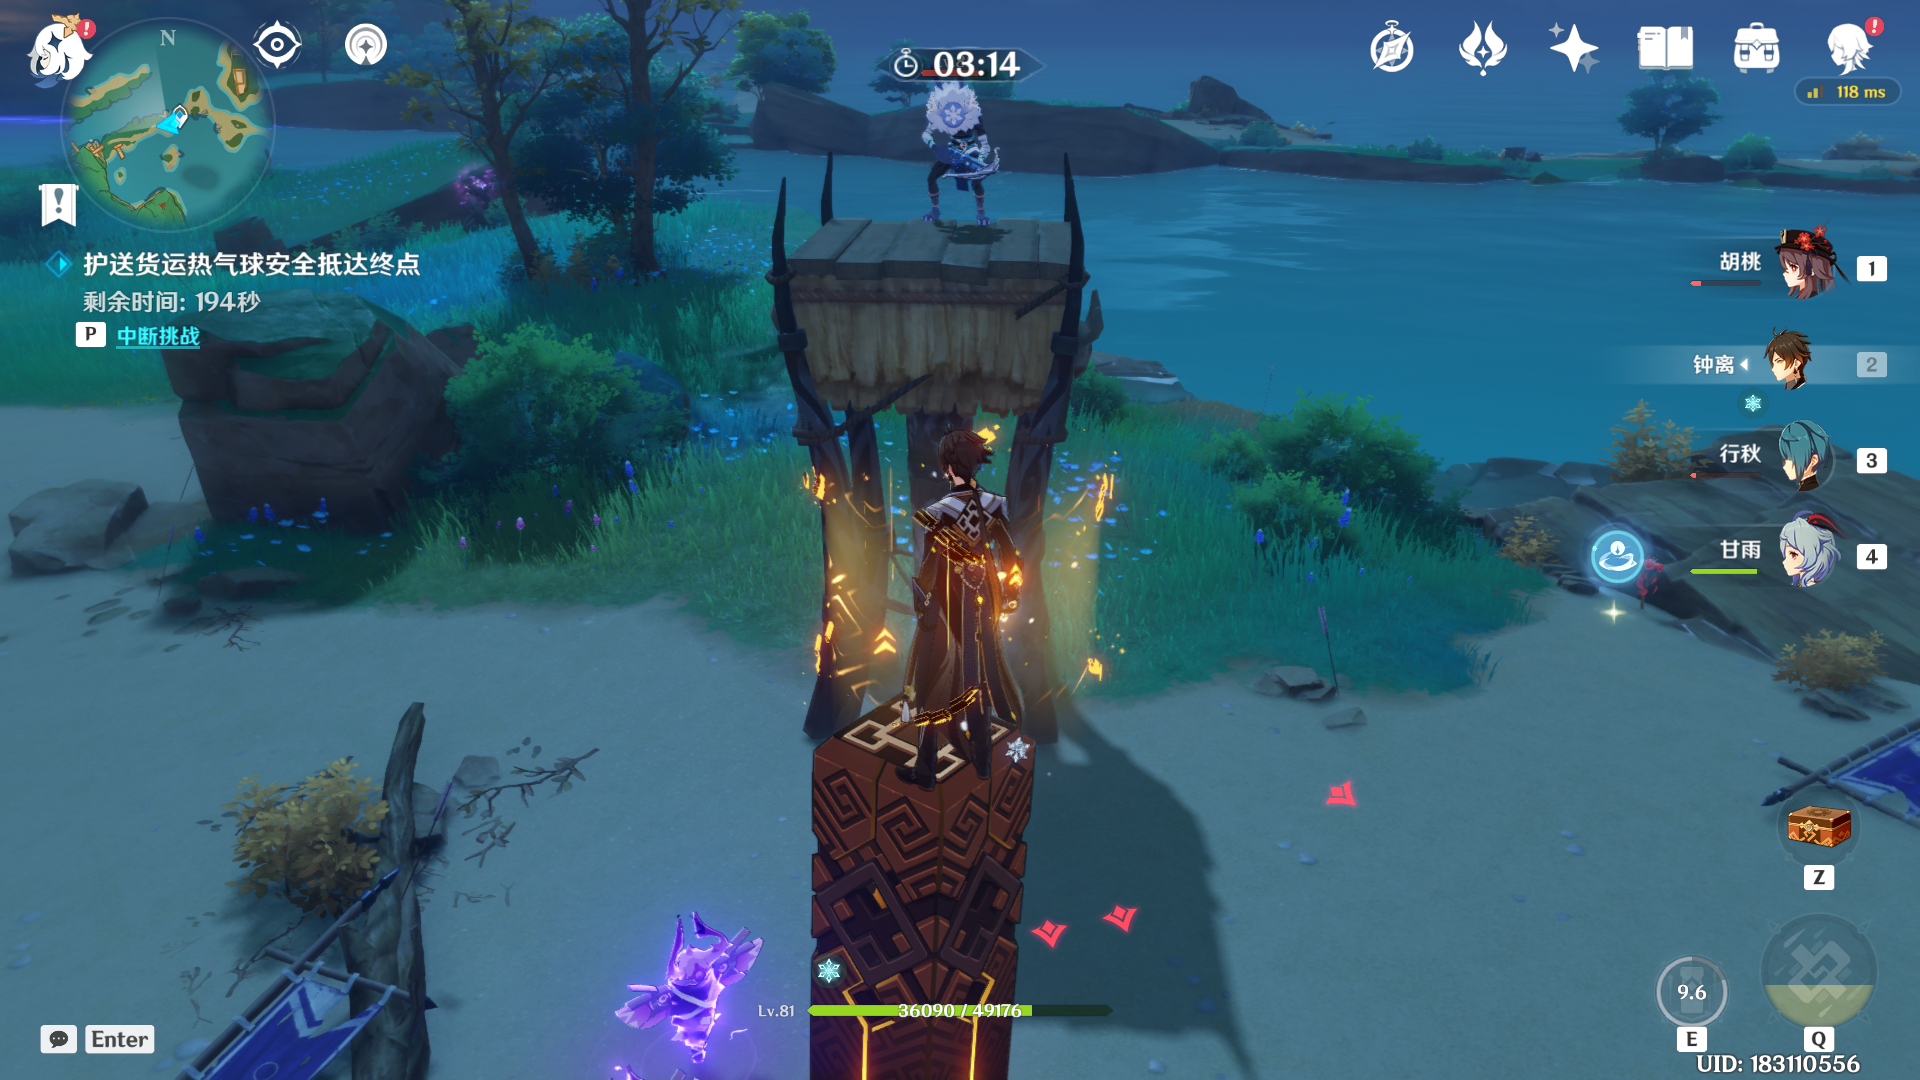character: (848, 406, 1106, 800)
hili: (886, 62, 1034, 237)
